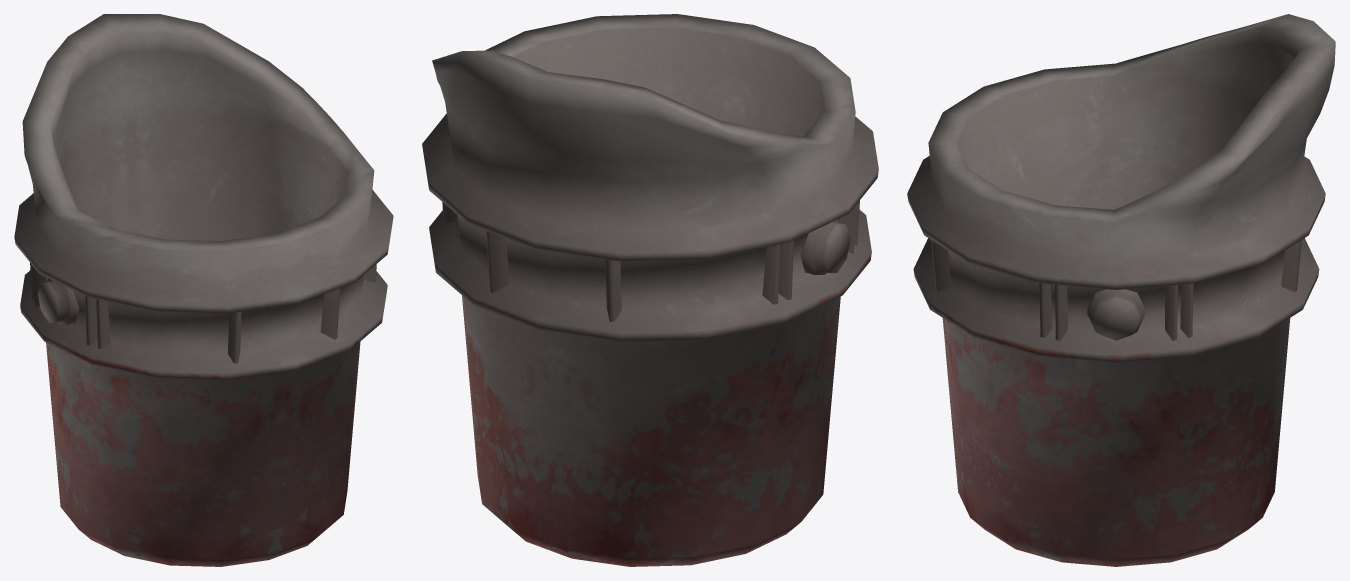
File: Caldeira.fbx
The picture shows the model from 3 angles, left to right: view 1: azimuth 30°, elevation 25°; view 2: azimuth 150°, elevation 25°; view 3: azimuth 270°, elevation 25°; orthographic projection. The views are drawn at different scales.
Parts seen in each view (by area): view 1: Caldeira; view 2: Caldeira; view 3: Caldeira.
Boxes of the visible parts, x1,y1,x2,y2 form: Caldeira: (14, 14, 393, 566); Caldeira: (422, 14, 878, 566); Caldeira: (907, 14, 1335, 566).
Bounding box in the file's own units: 554 × 680 × 568.
